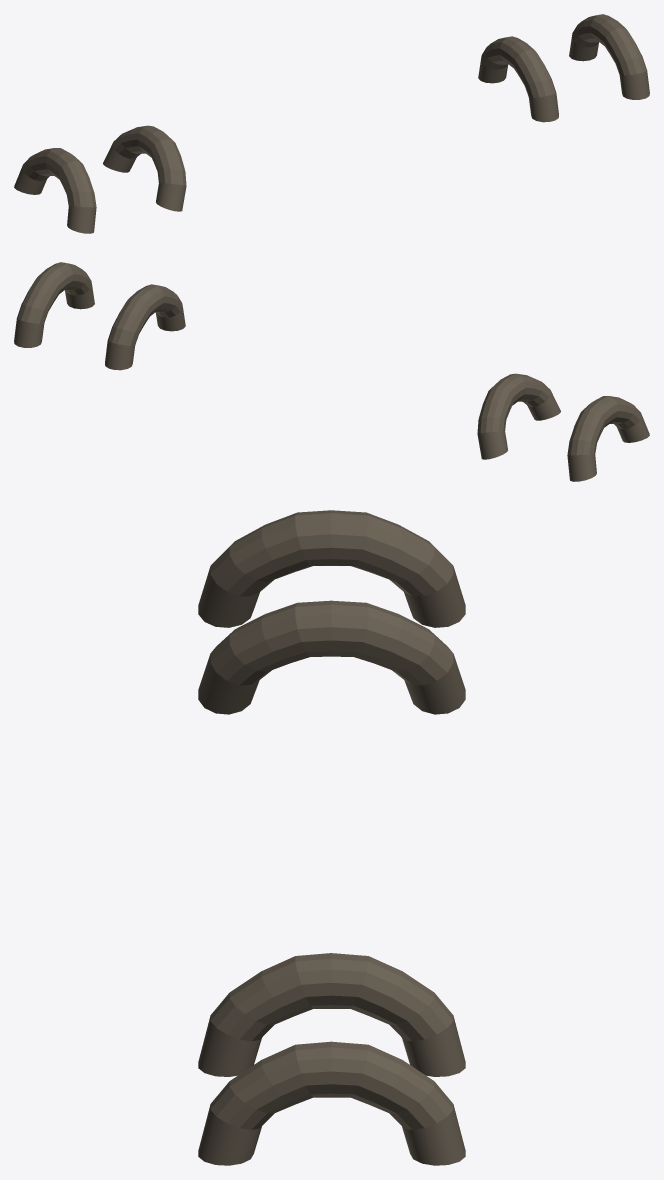
File: page middle.FBX
3 views of the same model, one above another, from view 1: azimuth 30°, elevation 25°; view 2: azimuth 150°, elevation 25°; view 3: azimuth 270°, elevation 25° (orthographic). The views are drawn at different scales.
Visible parts, largest first — view 1: Tube004, Tube003, Tube005, Tube006; view 2: Tube004, Tube003, Tube005, Tube006; view 3: Tube006, Tube005, Tube003, Tube004.
Boxes of the visible parts, box(x1,y1,x2,y2) form: Tube004: box(103, 125, 186, 211); Tube003: box(14, 148, 96, 233); Tube005: box(478, 36, 558, 122); Tube006: box(569, 14, 649, 99); Tube004: box(477, 373, 560, 459); Tube003: box(567, 396, 649, 481); Tube005: box(105, 284, 185, 370); Tube006: box(14, 262, 94, 347); Tube006: box(198, 1041, 465, 1165); Tube005: box(198, 953, 465, 1076); Tube003: box(198, 510, 465, 627); Tube004: box(198, 600, 465, 714).
Size of the model in its own units: 1.39 by 0.1314 by 0.278.
